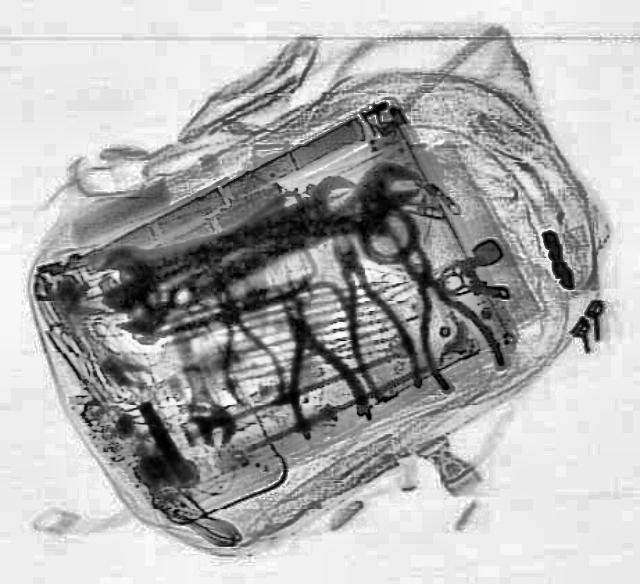Pliers: (362, 216, 510, 392), (306, 222, 429, 404), (248, 285, 378, 441), (192, 287, 290, 411)
Wrench: (150, 150, 442, 330), (79, 160, 373, 316), (150, 309, 242, 451)
